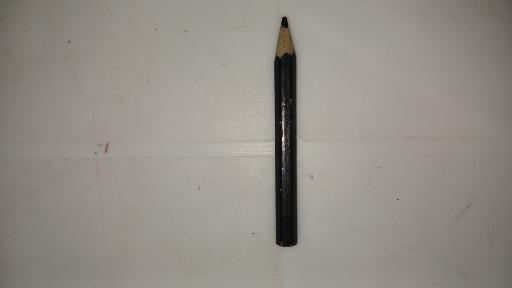Pencil: (275, 15, 300, 247)
